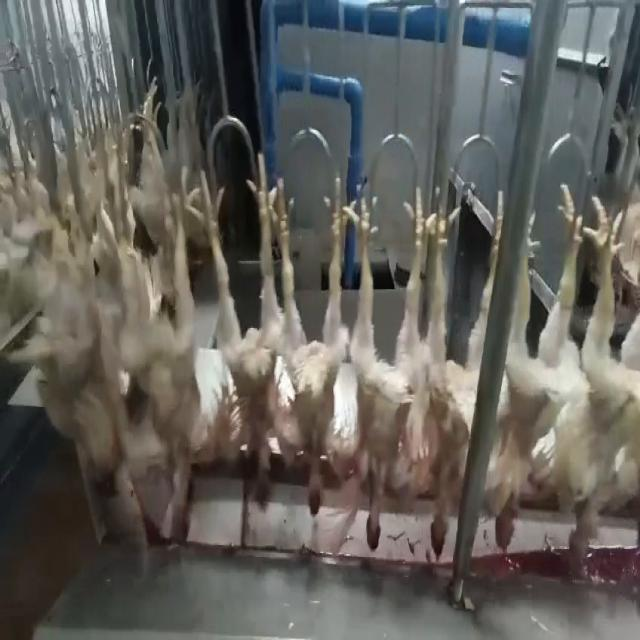chicken: (409, 176, 509, 566), (483, 186, 585, 562), (340, 180, 432, 560), (551, 195, 636, 569), (272, 175, 354, 522), (196, 157, 275, 474), (141, 163, 199, 512)
